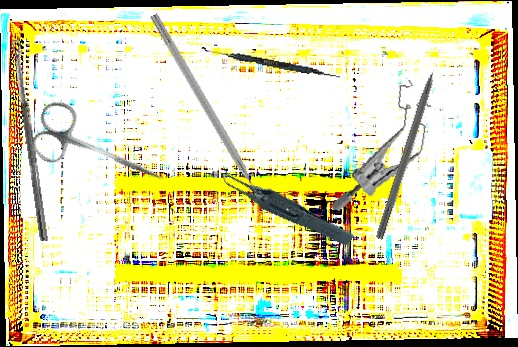Chopper: (139, 12, 267, 213)
Hook Surgical: (374, 48, 447, 241)
Iris Scissors: (25, 96, 177, 206)
Spatula Surgical: (200, 46, 341, 80)
Speculum: (329, 70, 438, 224)
Surgical Spoon: (11, 39, 50, 242)
Tissue Forceps: (215, 140, 356, 270)
